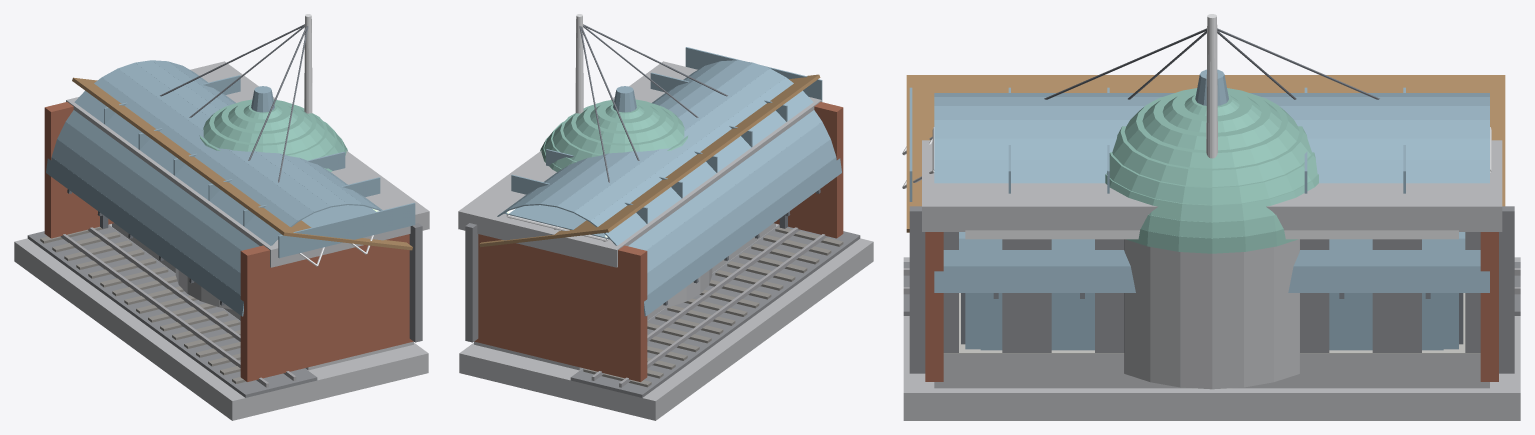
File: stops.glb
3 renders of one model, left to right at view 1: azimuth 30°, elevation 25°; view 2: azimuth 150°, elevation 25°; view 3: azimuth 270°, elevation 25°, orthographic. The views are drawn at different scales.
Parts seen in each view (by area): view 1: stop_0, stop_1, stop_5, stop_4, stop_3, stop_6; view 2: stop_0, stop_5, stop_4, stop_1, stop_3, stop_6; view 3: stop_0, stop_4, stop_5, stop_1, stop_6, stop_2, stop_3.
Boxes of the visible parts, <box> form: stop_0: <box>14,60,428,420</box>; stop_1: <box>72,75,415,258</box>; stop_5: <box>66,61,429,342</box>; stop_4: <box>175,86,347,309</box>; stop_3: <box>160,14,312,182</box>; stop_6: <box>299,205,379,266</box>; stop_0: <box>459,60,873,420</box>; stop_5: <box>458,61,821,342</box>; stop_4: <box>540,86,712,309</box>; stop_1: <box>479,47,822,247</box>; stop_3: <box>575,14,727,182</box>; stop_6: <box>504,205,609,241</box>; stop_0: <box>903,93,1520,420</box>; stop_4: <box>1105,69,1318,389</box>; stop_5: <box>909,140,1514,373</box>; stop_1: <box>906,75,1505,344</box>; stop_6: <box>902,127,1491,349</box>; stop_2: <box>965,230,1458,350</box>; stop_3: <box>1044,14,1379,158</box>.
Size of the model in its own units: 5.8 by 7.1 by 10.02.
